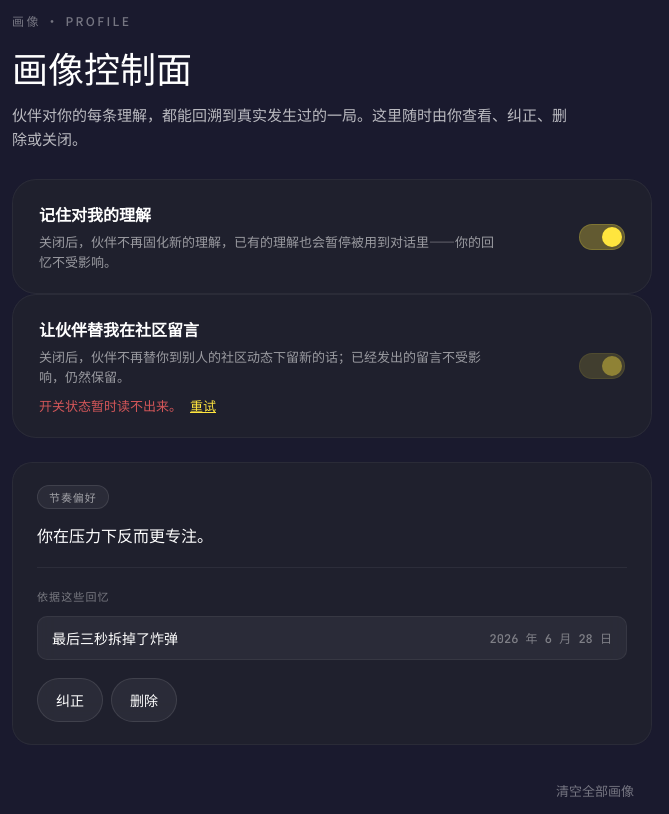
Test: ProfileControlPage /me/profile › disables the 代言社交 switch and offers a retry when the read fails, then recovers
This screenshot has width=669, height=814.
Expected: the switch named "代言社交开关" is disabled, left=579, top=344, right=625, bottom=388
Expected: the text "开关状态暂时读不出来。" is shown, left=39, top=396, right=182, bottom=415
Click the button "重试": (203, 406) left=190, top=396, right=216, bottom=415
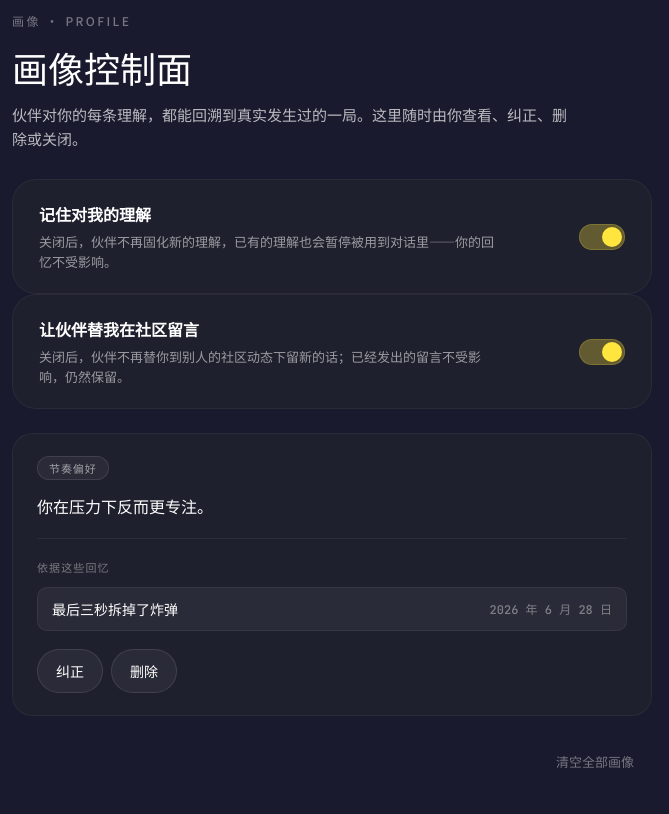
Expected: the switch named "代言社交开关" is enabled, left=579, top=330, right=625, bottom=374
